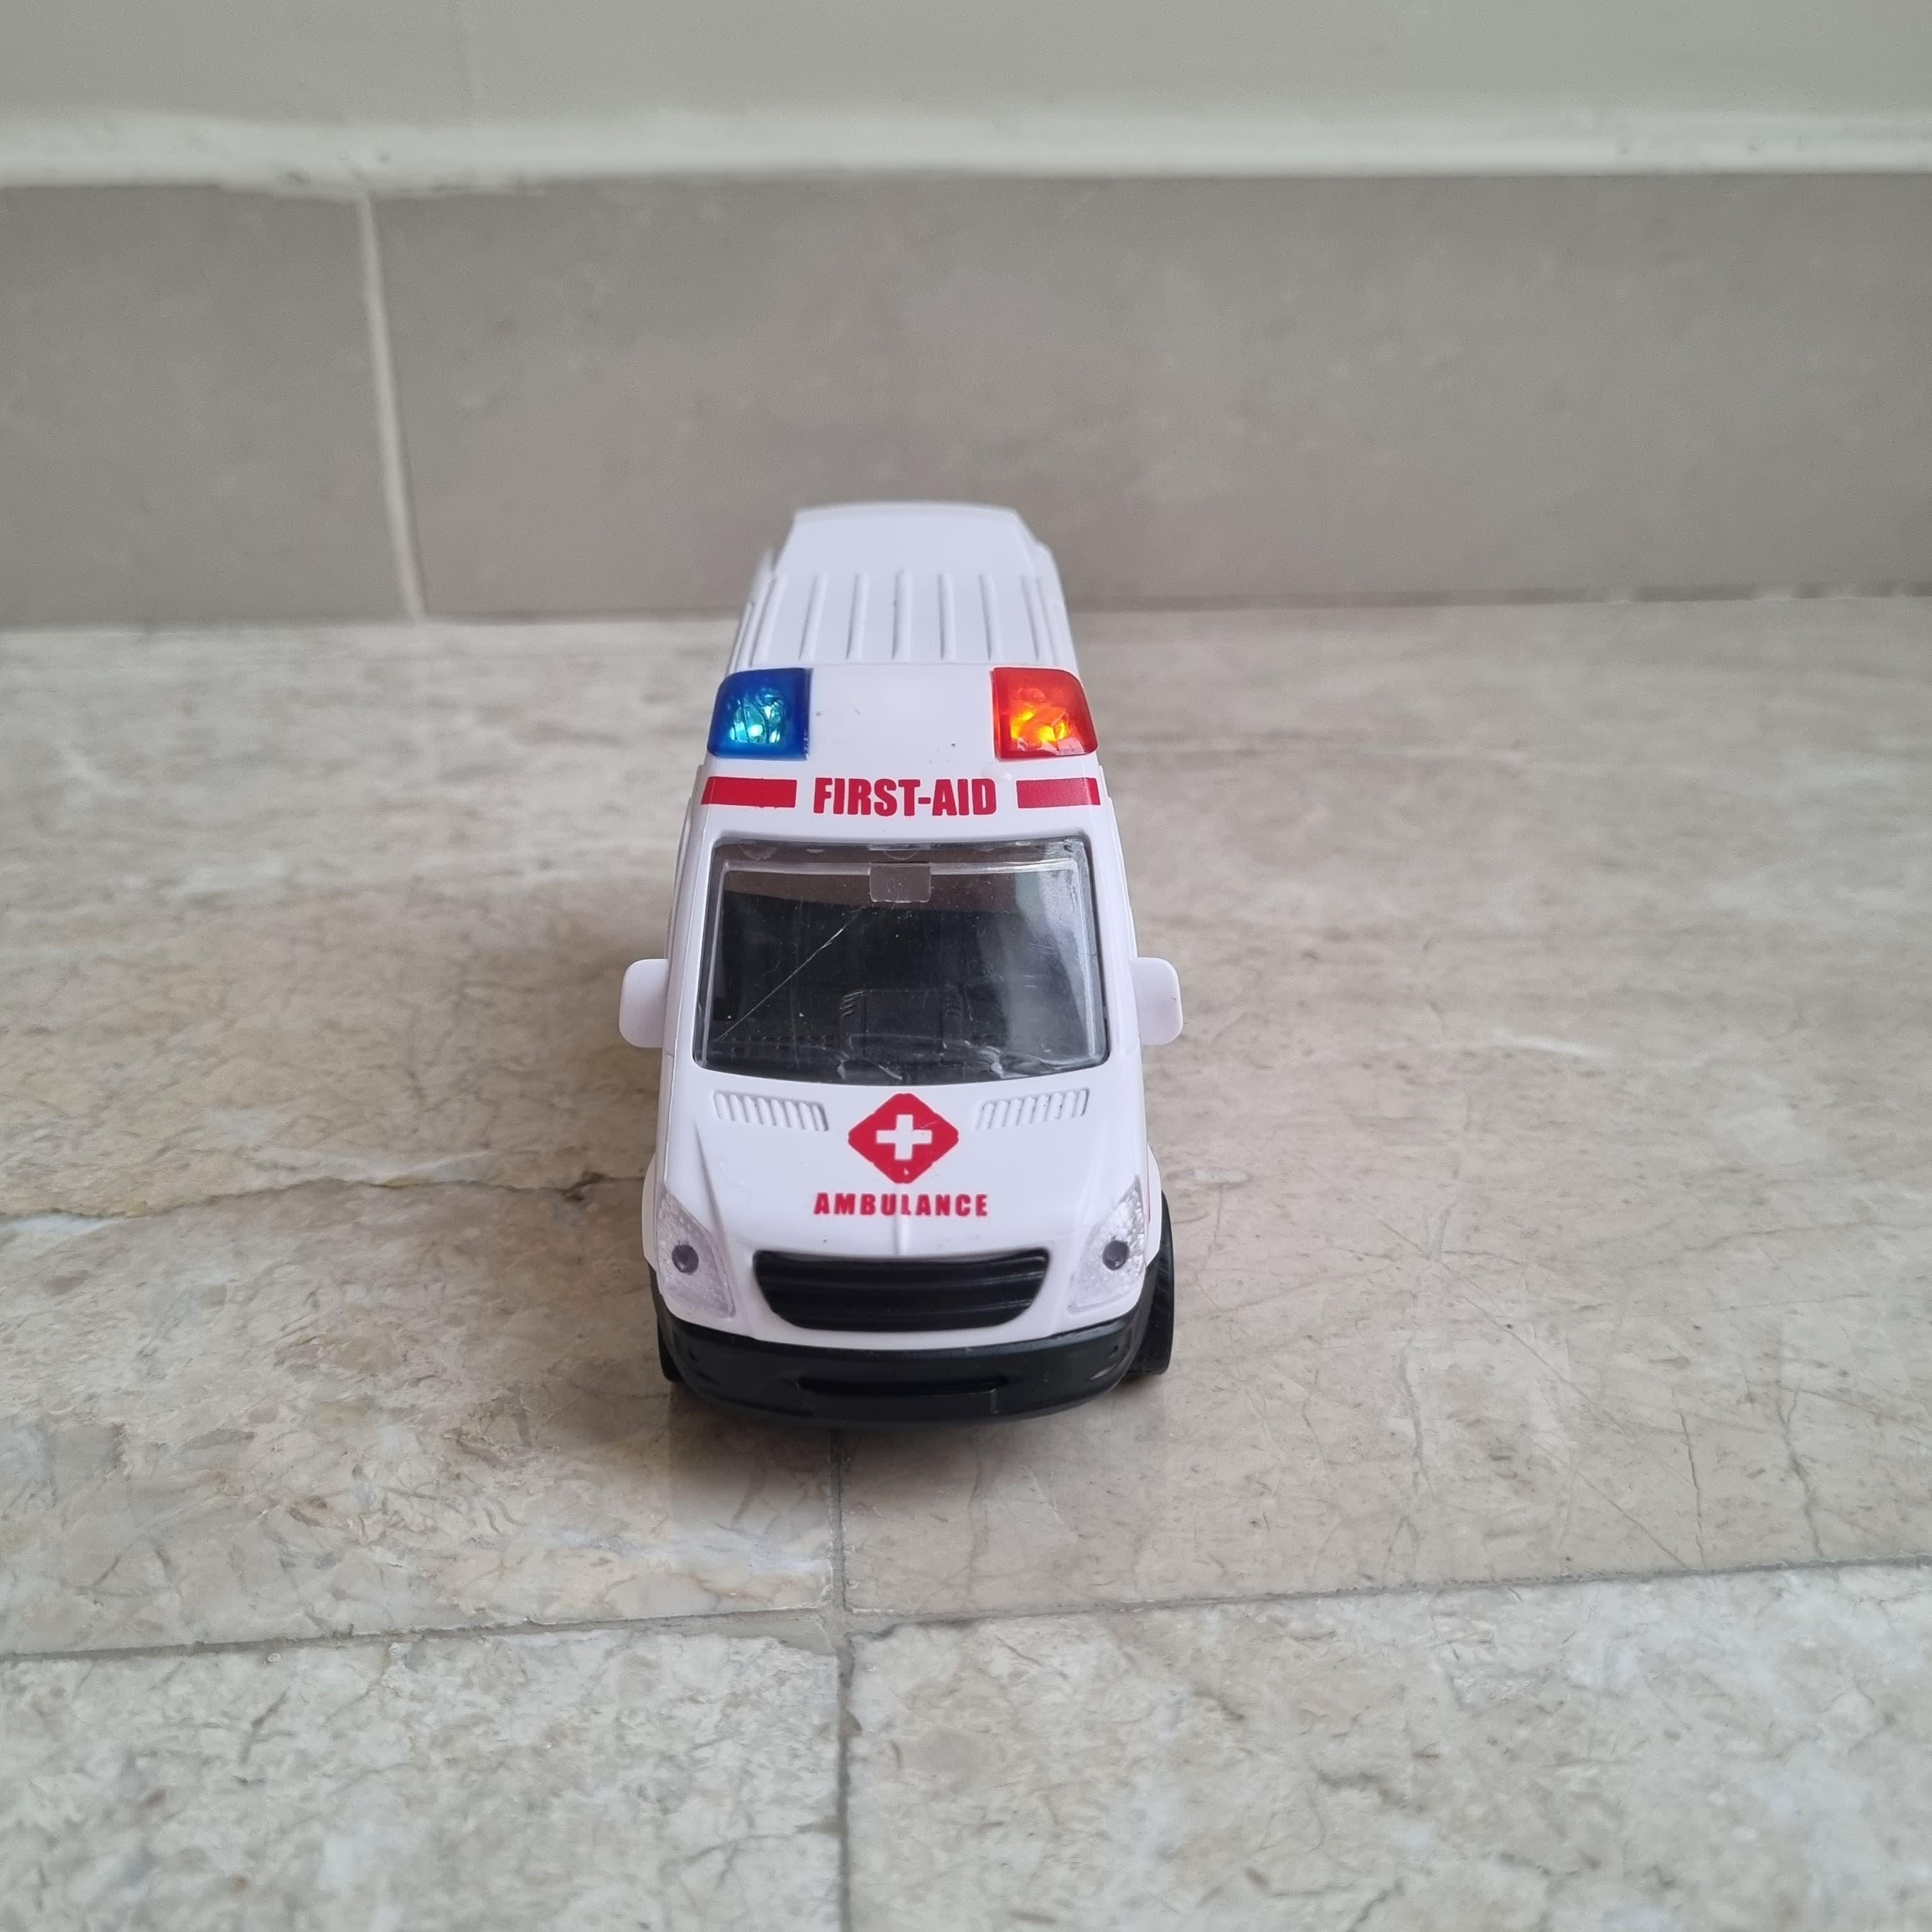ambulance_on: (612, 504, 1187, 1426)
